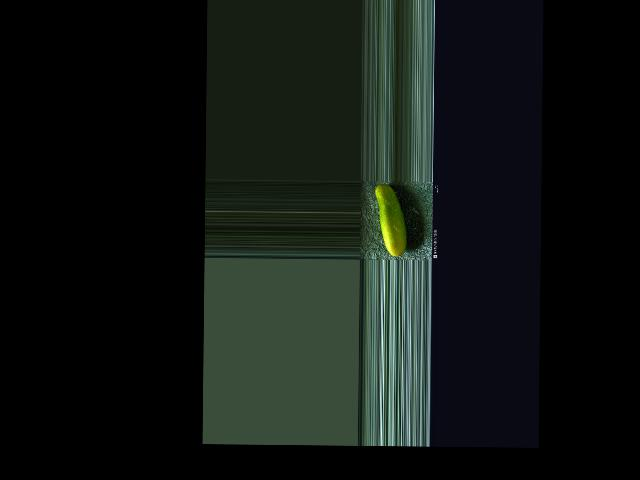cucumber: (374, 183, 407, 256)
